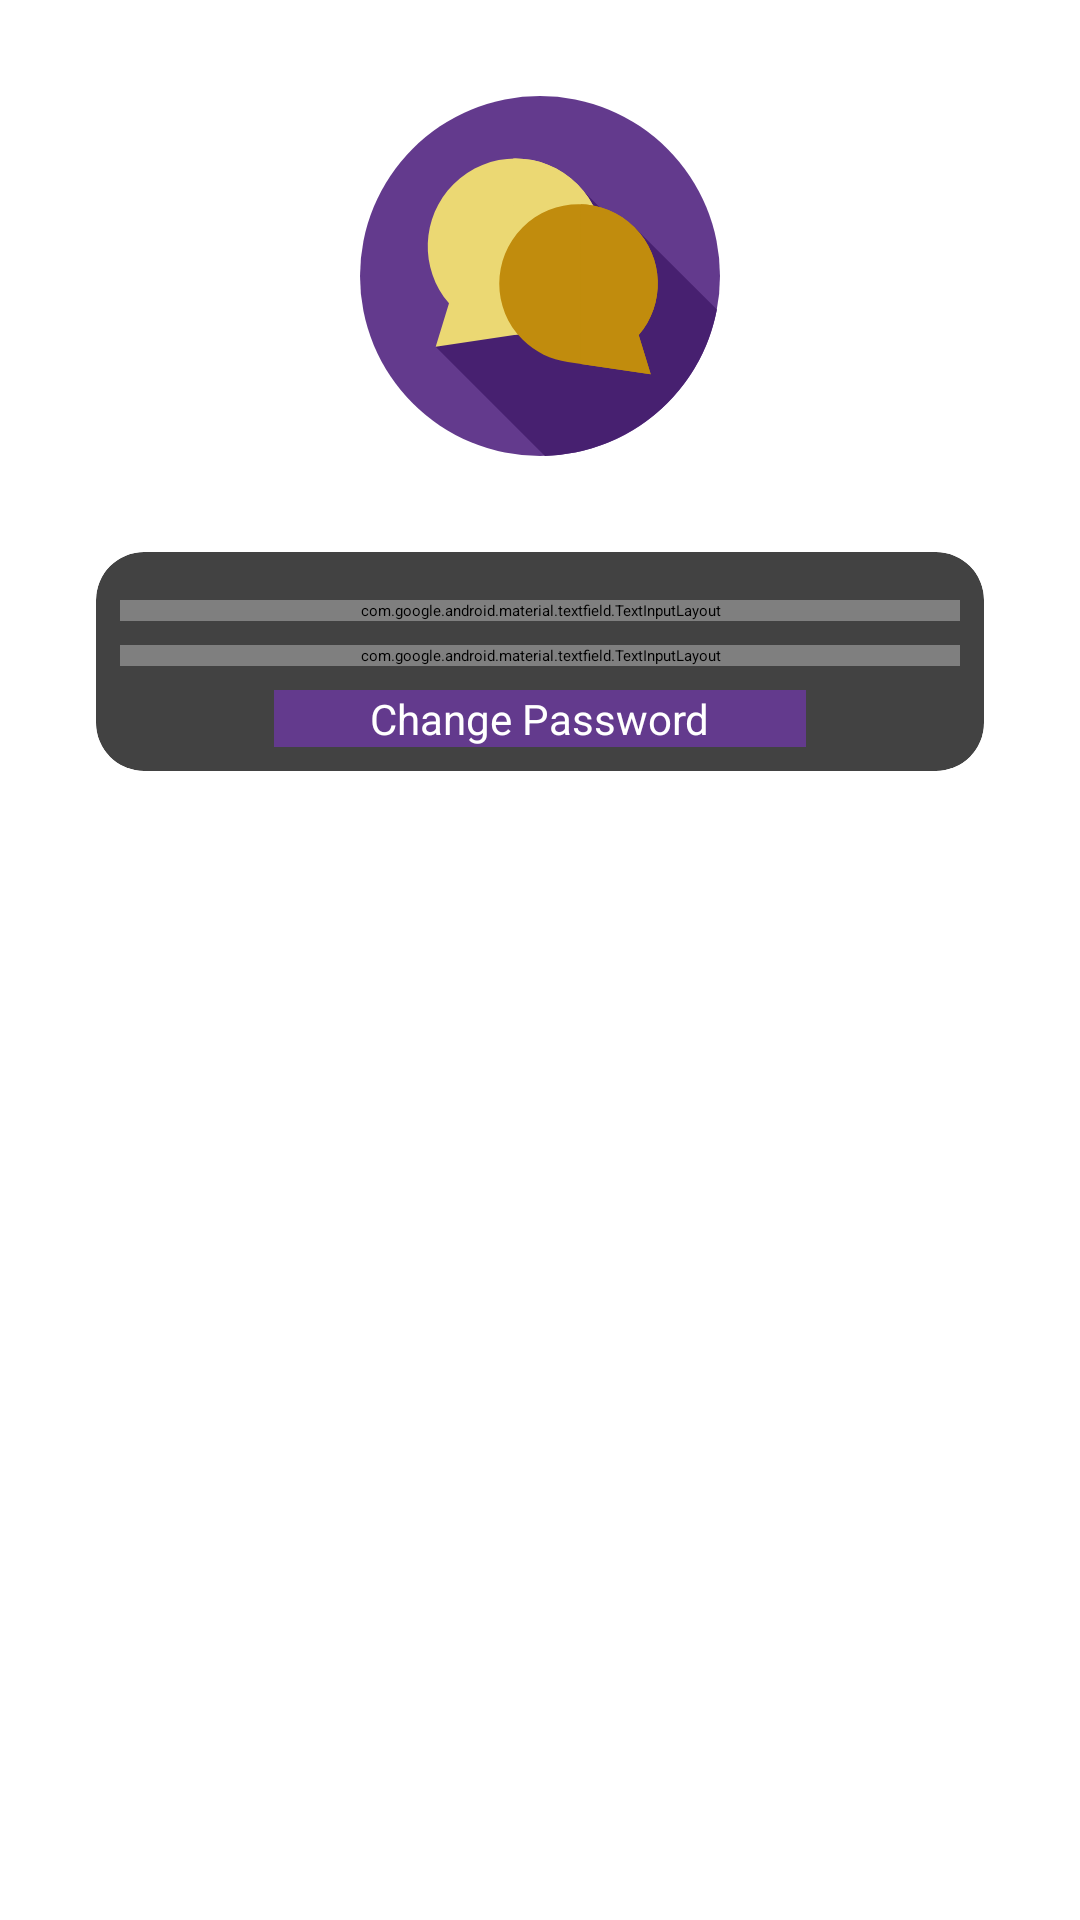

Locate icon controls on the screen. Image size 1080px×1920px, boxes as (x1, y1, x2, y2).
chat bubble: (360, 96, 720, 456)
